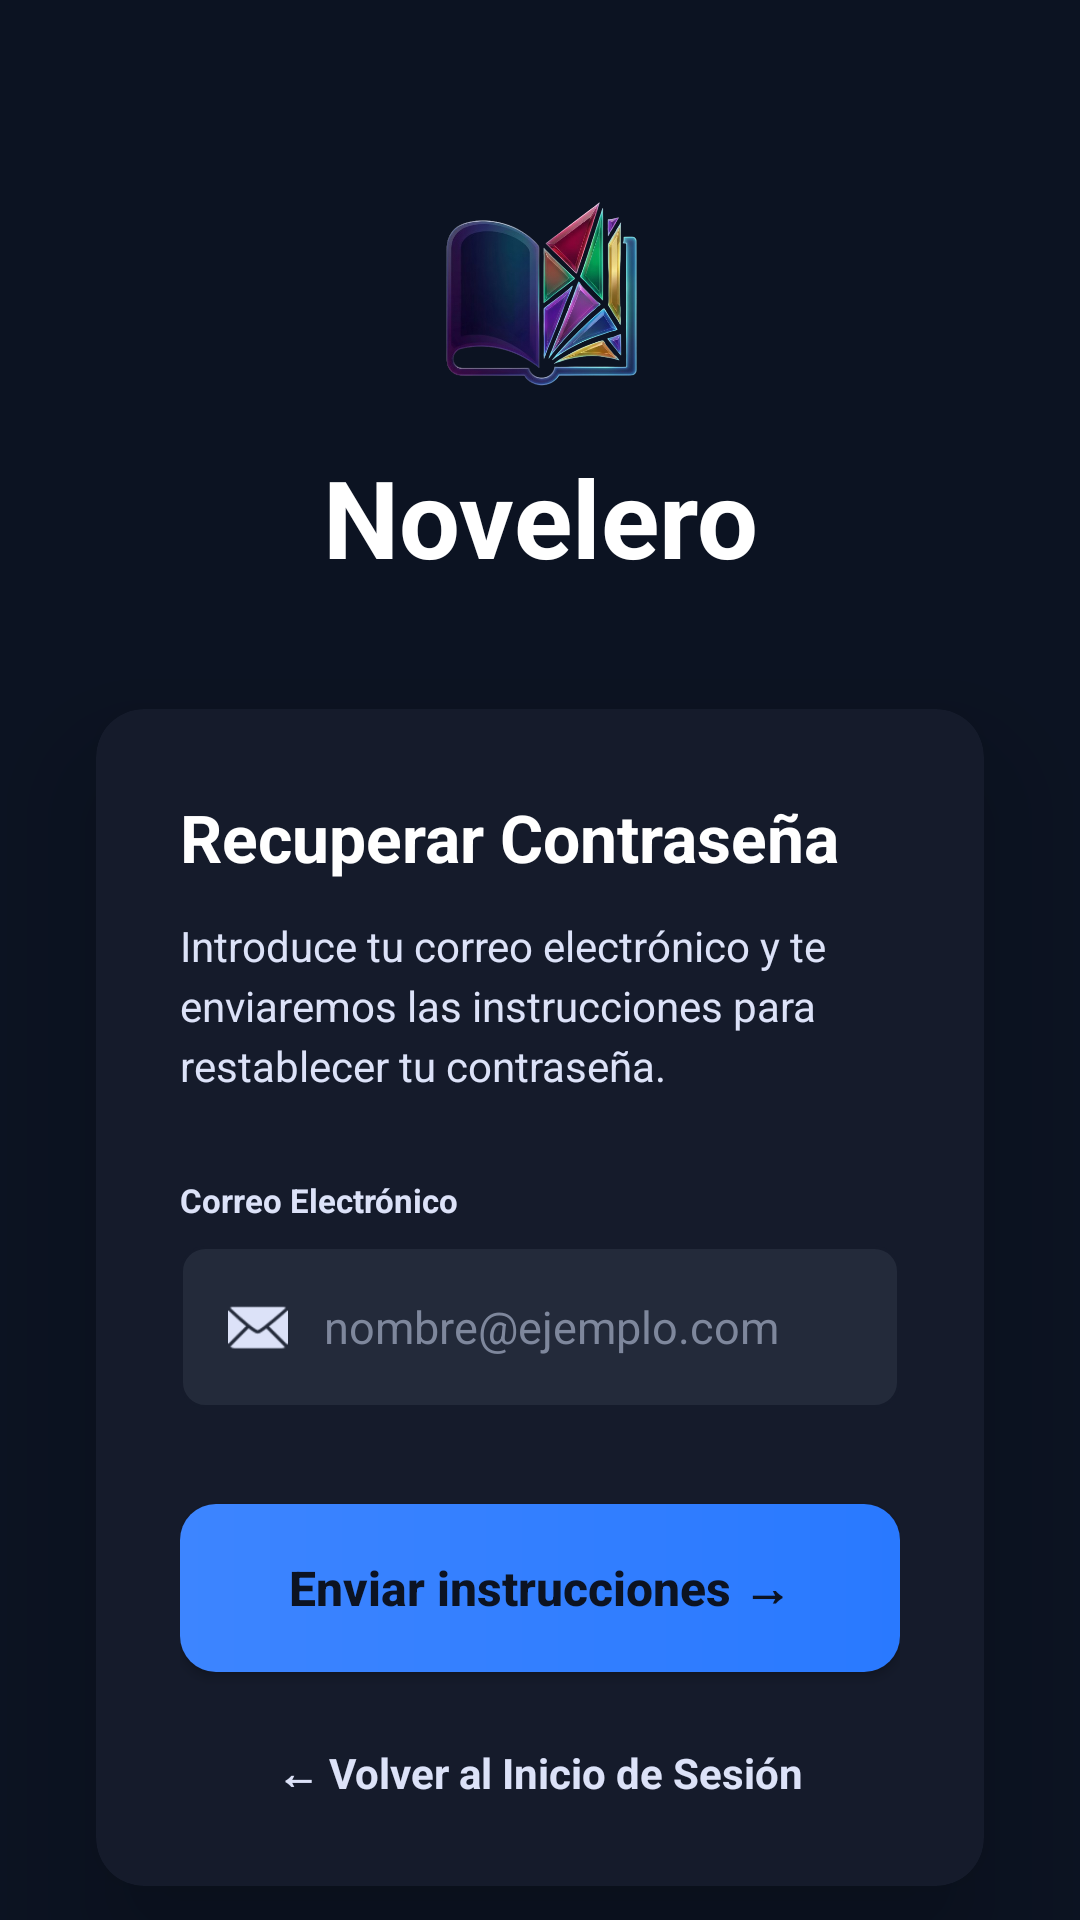

Icon click points for this 1080 x 1920 phone screenshot, format point (x, y):
email: point (258, 1327)
